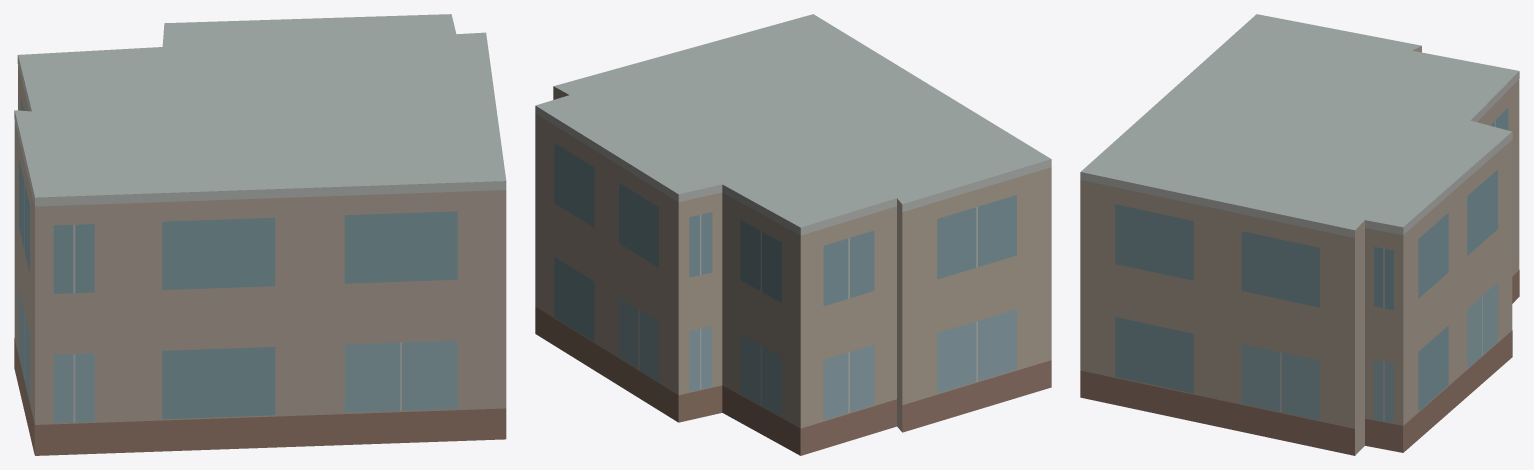
Rendered from survey-upis-32930355.glb.
3 views of the same model, side by side, from view 1: azimuth 30°, elevation 25°; view 2: azimuth 150°, elevation 25°; view 3: azimuth 270°, elevation 25° (orthographic). The views are drawn at different scales.
Visible parts, largest first — view 1: survey-upis-32930355.tmp; view 2: survey-upis-32930355.tmp; view 3: survey-upis-32930355.tmp.
Boxes of the visible parts, x1,y1,x2,y2 form: survey-upis-32930355.tmp: (14, 14, 506, 455); survey-upis-32930355.tmp: (535, 14, 1051, 455); survey-upis-32930355.tmp: (1080, 14, 1519, 455).
Bounding box in the file's own units: 14.4 × 7 × 12.36.
